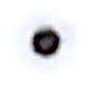cancer: (9, 9, 82, 74)
